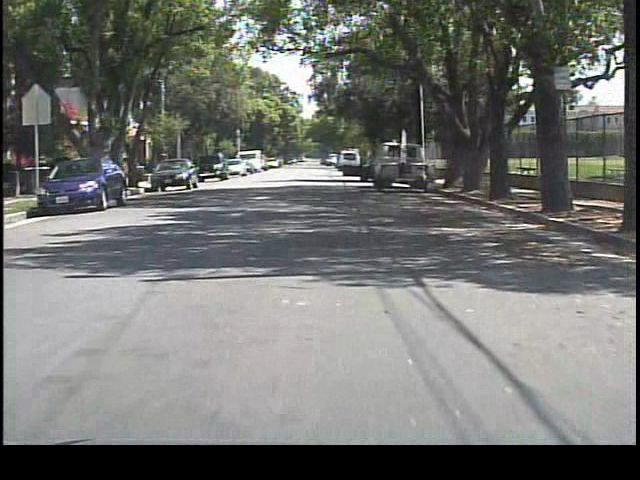person: (359, 158, 374, 186)
